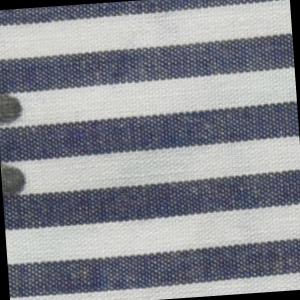Stain: (1, 155, 29, 206), (1, 86, 28, 131)
